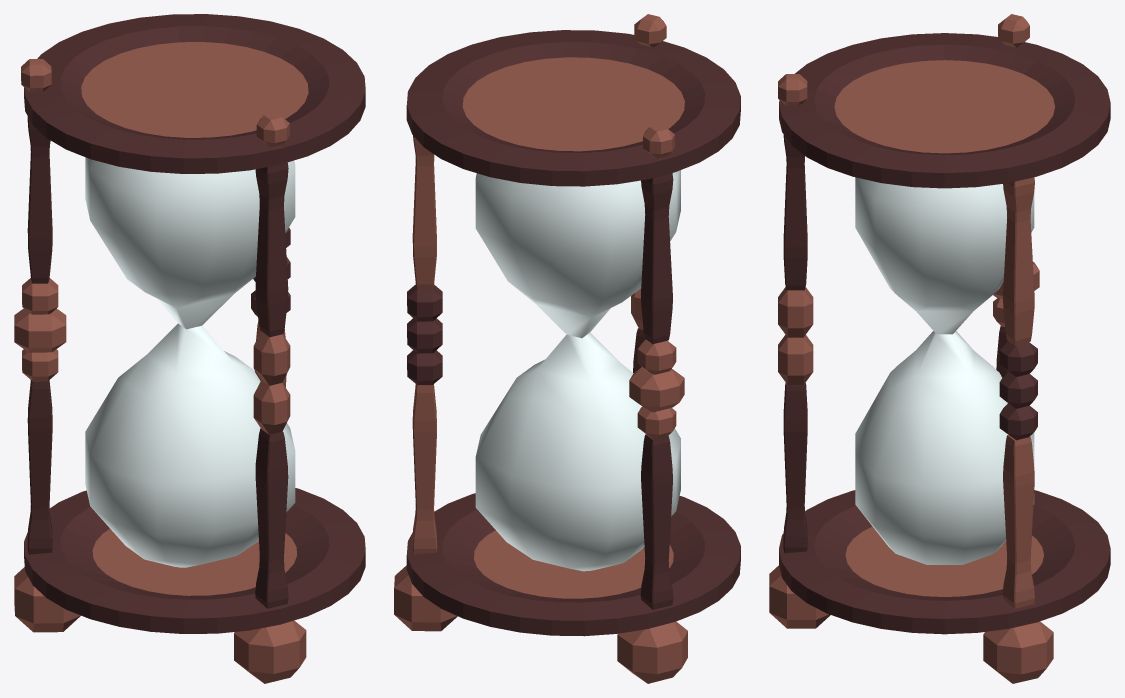
The model's file is Hourglass Different Joined.fbx.
3 renders of one model, left to right at view 1: azimuth 30°, elevation 25°; view 2: azimuth 150°, elevation 25°; view 3: azimuth 270°, elevation 25°, orthographic. The views are drawn at different scales.
Parts seen in each view (by area): view 1: Hourglass Differences Joined; view 2: Hourglass Differences Joined; view 3: Hourglass Differences Joined.
Boxes of the visible parts, x1,y1,x2,y2 form: Hourglass Differences Joined: (14,14,365,683); Hourglass Differences Joined: (394,14,740,683); Hourglass Differences Joined: (769,14,1110,683).
Bounding box in the file's own units: 200 × 206 × 364.
